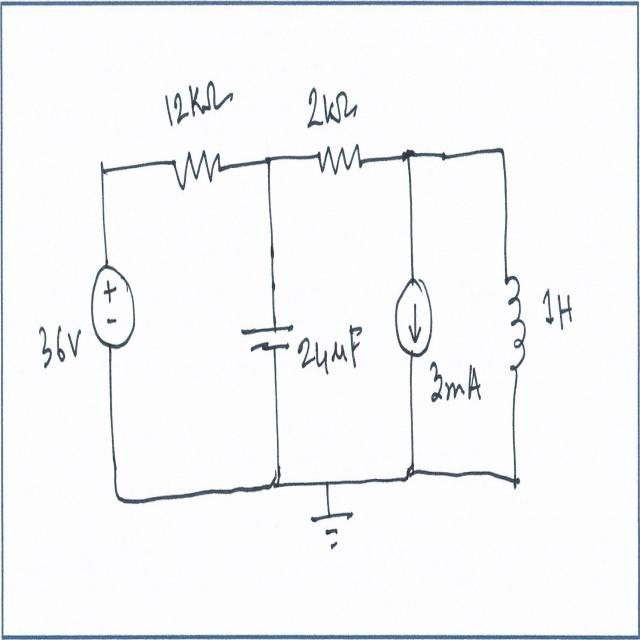capacitor: (237, 321, 295, 358)
current_source: (389, 270, 436, 363)
ground: (305, 507, 364, 560)
inductor: (504, 272, 530, 388)
resistor: (172, 140, 222, 202), (316, 141, 363, 190)
voltage_source: (88, 260, 138, 350)
